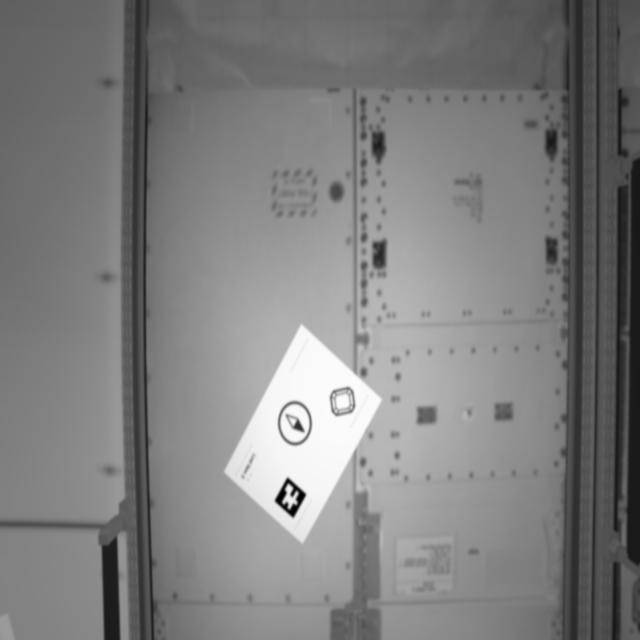compass: (274, 396, 319, 449)
emerald: (329, 384, 359, 423)
